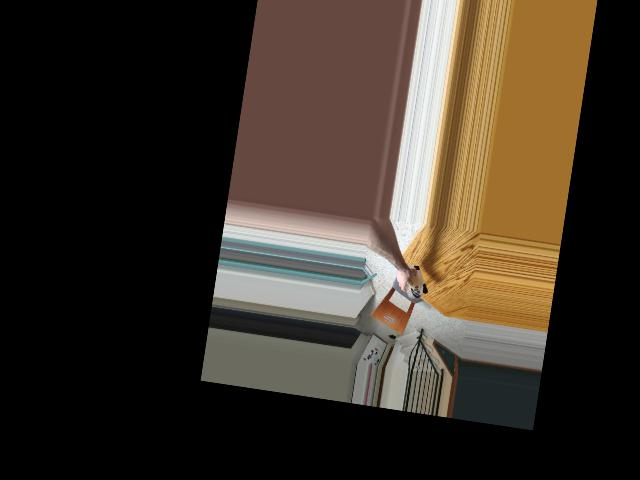cheese: (394, 260, 431, 300)
